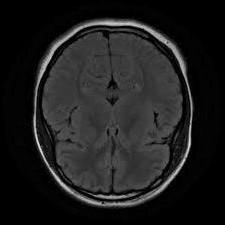Normal_Brain: (1, 1, 210, 225)
